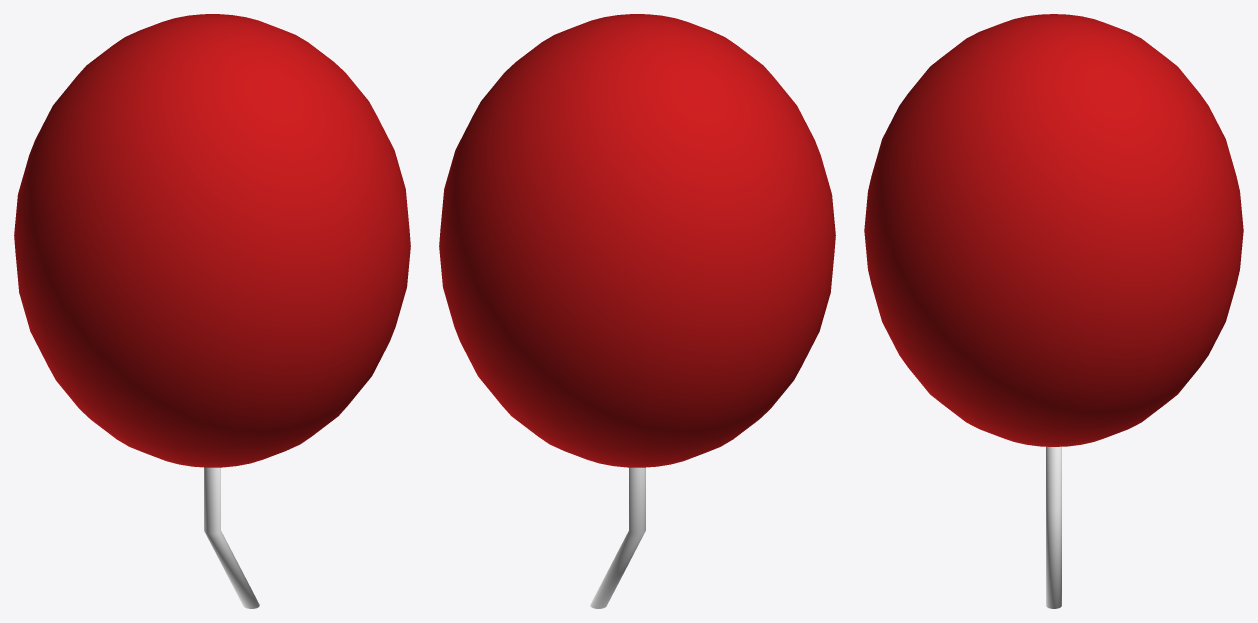
Rendered from balloon.obj.
3 renders of one model, left to right at view 1: azimuth 30°, elevation 25°; view 2: azimuth 150°, elevation 25°; view 3: azimuth 270°, elevation 25°, orthographic. The views are drawn at different scales.
Visible parts, largest first — view 1: 球; view 2: 球; view 3: 球.
Part boxes in pixels (bbox=[...]): 球: bbox=[14, 14, 410, 608]; 球: bbox=[439, 14, 835, 608]; 球: bbox=[864, 14, 1243, 608].
Size of the model in its own units: 1.38 by 2.23 by 1.38.
1 material, 1 textured.
